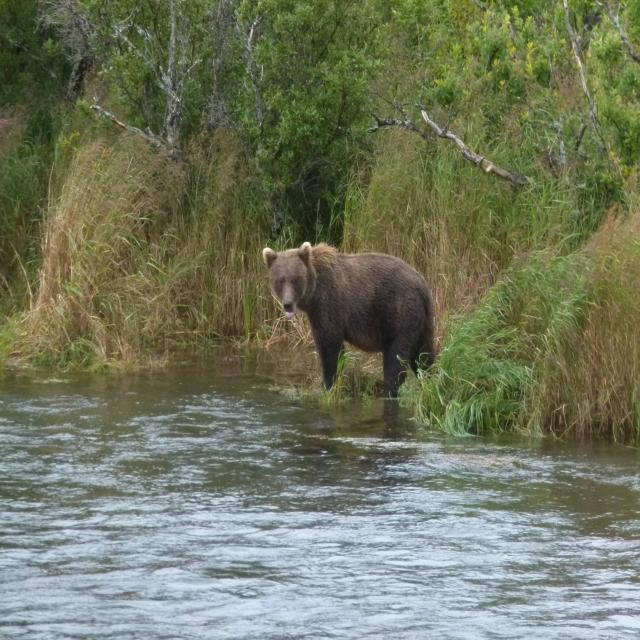bear face: (262, 243, 432, 387)
